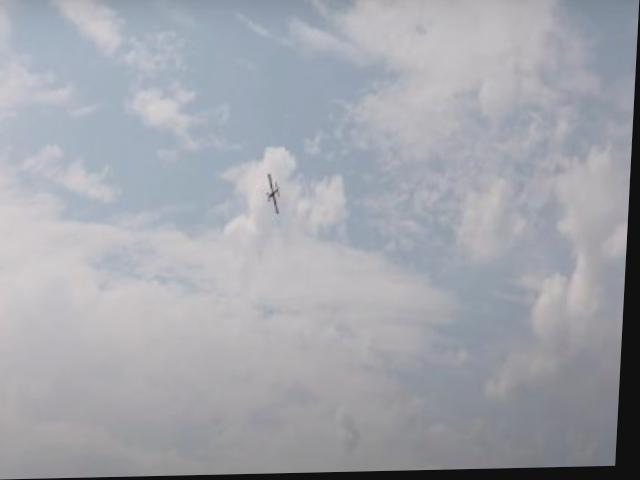uav: (261, 169, 289, 219)
